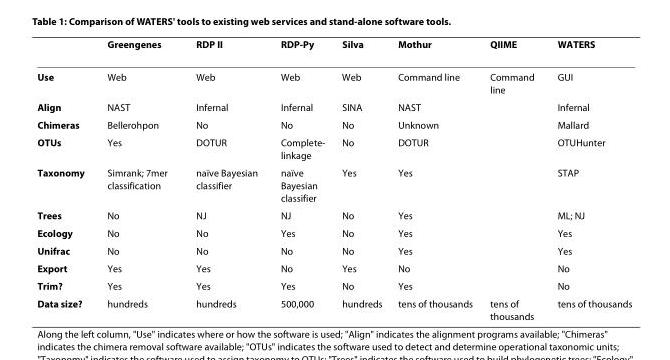table: (36, 37, 631, 321)
table column: (389, 37, 480, 321), (180, 37, 268, 321), (545, 37, 631, 321), (95, 37, 180, 321), (480, 37, 545, 321), (268, 37, 332, 321), (36, 37, 95, 321), (332, 37, 389, 321)
table column header: (36, 37, 631, 59)
table row: (36, 163, 631, 205), (36, 59, 631, 97), (36, 132, 631, 163), (36, 293, 631, 321), (36, 37, 631, 59), (36, 97, 631, 115), (36, 205, 631, 223), (36, 223, 631, 241), (36, 258, 631, 276), (36, 115, 631, 132), (36, 241, 631, 258), (36, 276, 631, 293)
